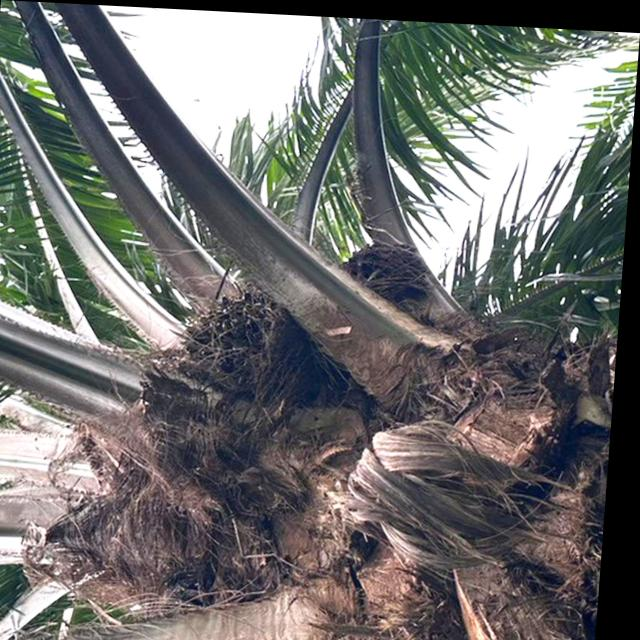almost: (170, 279, 351, 409)
unripe: (338, 230, 455, 325)
